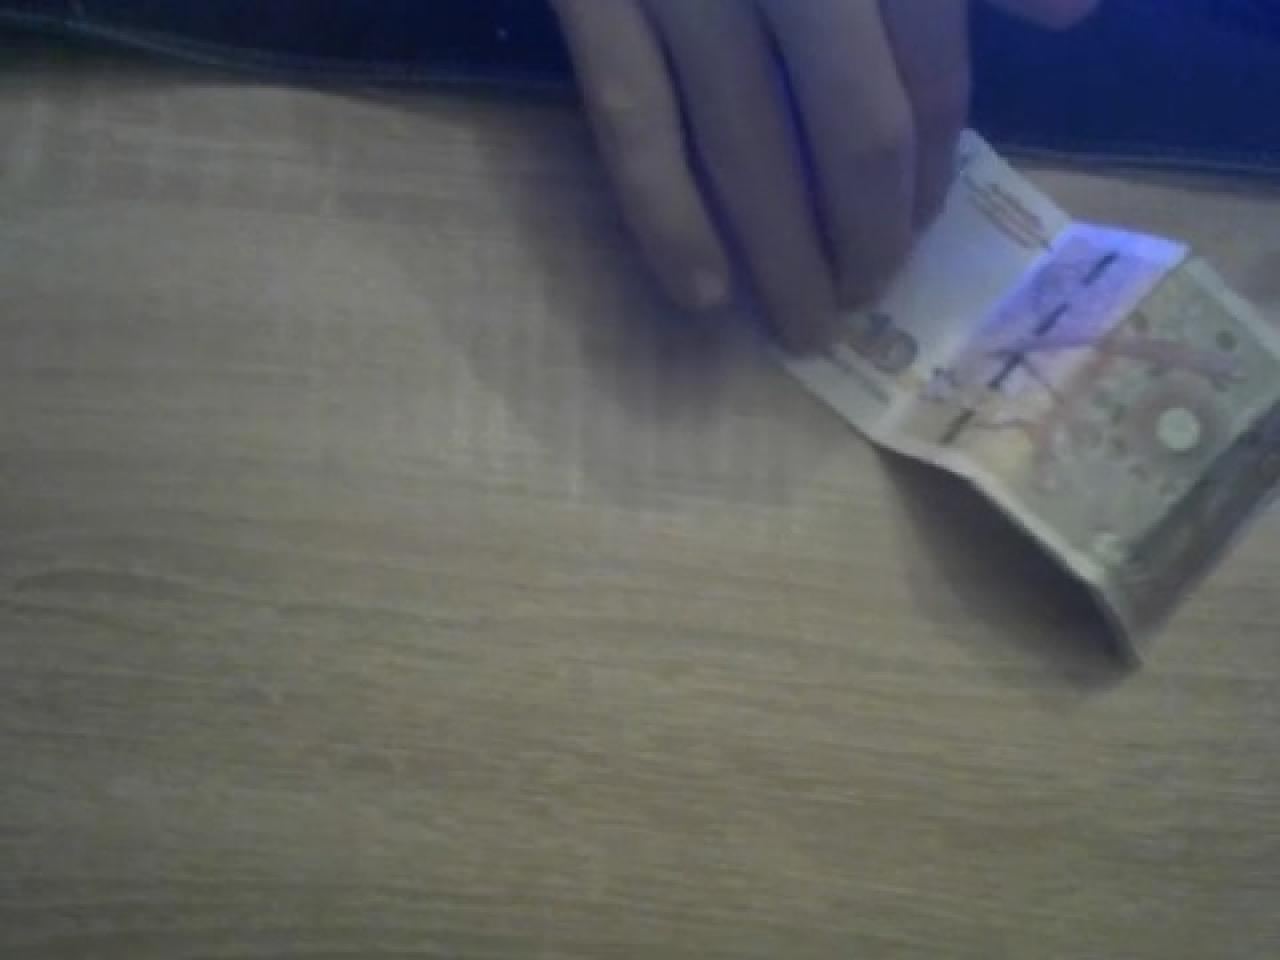10leva: (771, 131, 1280, 678)
